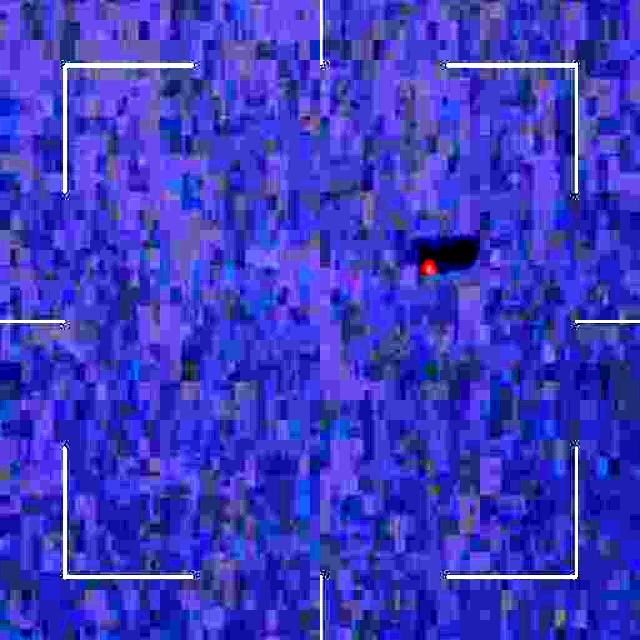bird: (416, 235, 440, 282)
